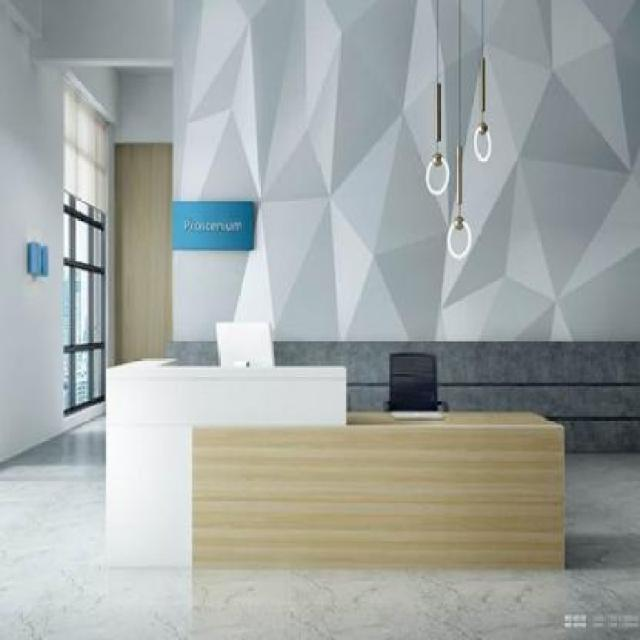frontdesk: (100, 349, 574, 580)
